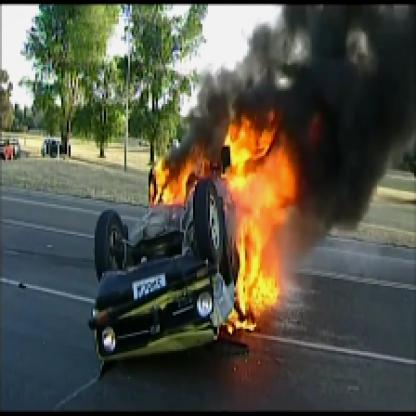Fire: (150, 98, 327, 334)
